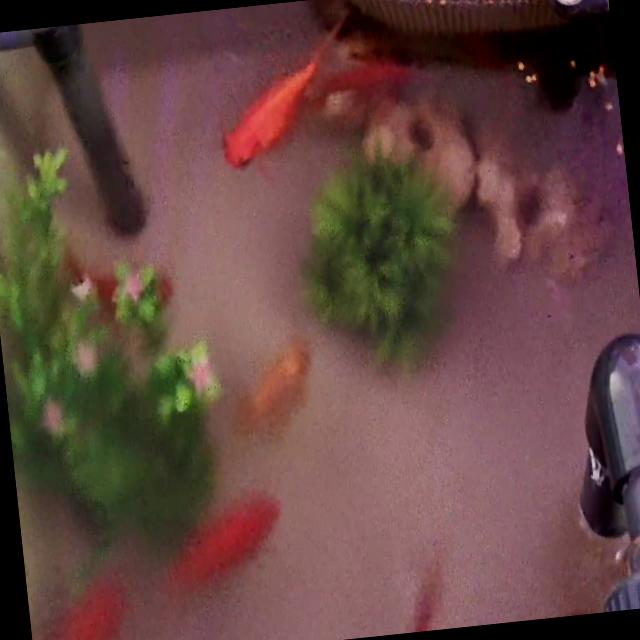fish: (158, 490, 292, 594), (213, 49, 328, 170), (226, 338, 318, 441), (25, 565, 136, 640), (360, 560, 440, 636), (314, 53, 408, 103)
